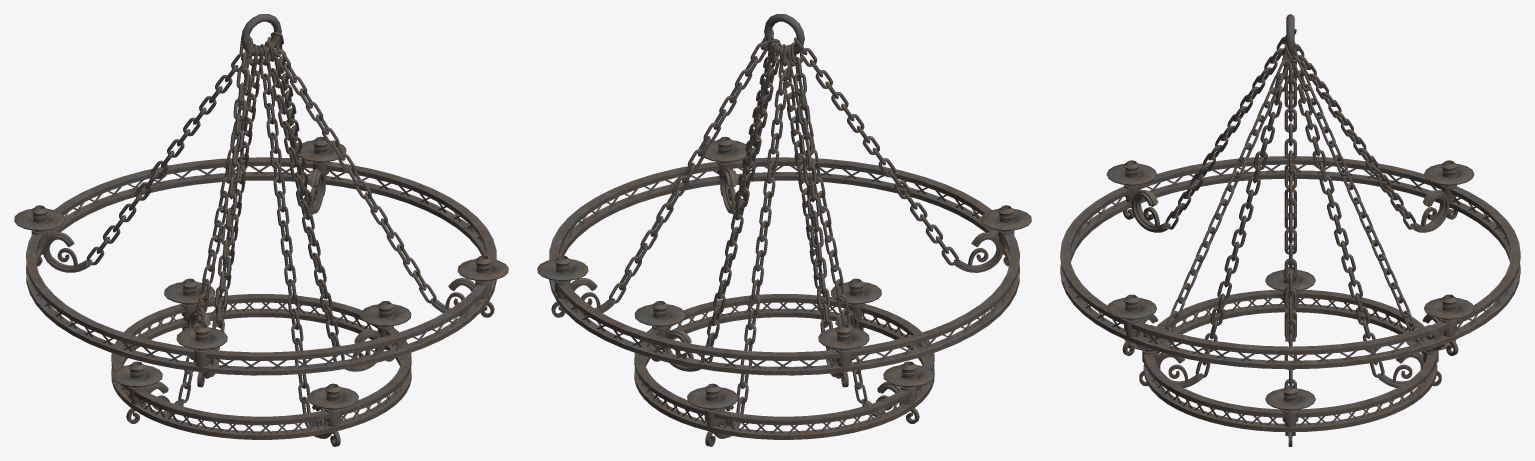
Rendered from chandelier04.fbx.
3 renders of one model, left to right at view 1: azimuth 30°, elevation 25°; view 2: azimuth 150°, elevation 25°; view 3: azimuth 270°, elevation 25°, orthographic. The views are drawn at different scales.
Visible parts, largest first — view 1: chandelier04; view 2: chandelier04; view 3: chandelier04.
Boxes of the visible parts, x1=… form: chandelier04: x1=14, y1=14, x2=508, y2=446; chandelier04: x1=537, y1=14, x2=1031, y2=446; chandelier04: x1=1060, y1=14, x2=1520, y2=446.
Bounding box in the file's own units: 182 × 162 × 182.
